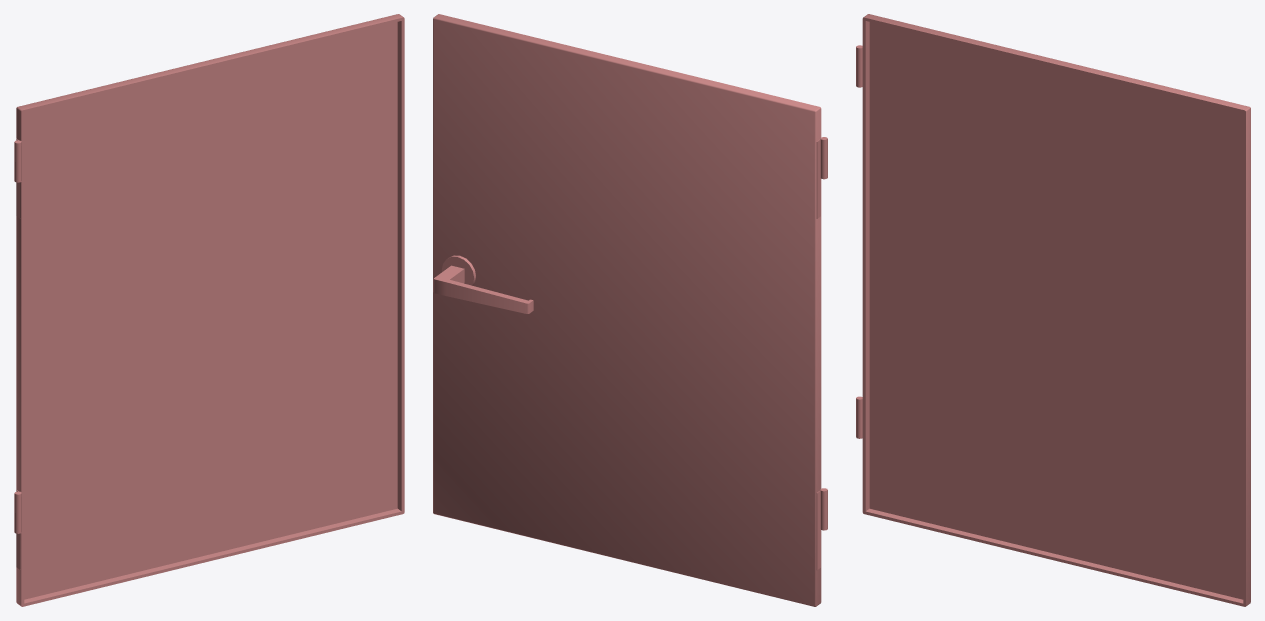
File: Panel_2_Door.fbx
The picture shows the model from 3 angles, left to right: view 1: azimuth 30°, elevation 25°; view 2: azimuth 150°, elevation 25°; view 3: azimuth 330°, elevation 25°; orthographic projection.
Visible parts, largest first — view 1: Panel_2_Door_LOD0; view 2: Panel_2_Door_LOD0; view 3: Panel_2_Door_LOD0.
Part boxes in pixels (box(x1,y1,x2,y2)): Panel_2_Door_LOD0: box(14, 14, 404, 606); Panel_2_Door_LOD0: box(433, 14, 827, 606); Panel_2_Door_LOD0: box(856, 14, 1250, 606).
Size of what is drawn, in the model's own units: 0.6703 by 0.8171 by 0.0819.
